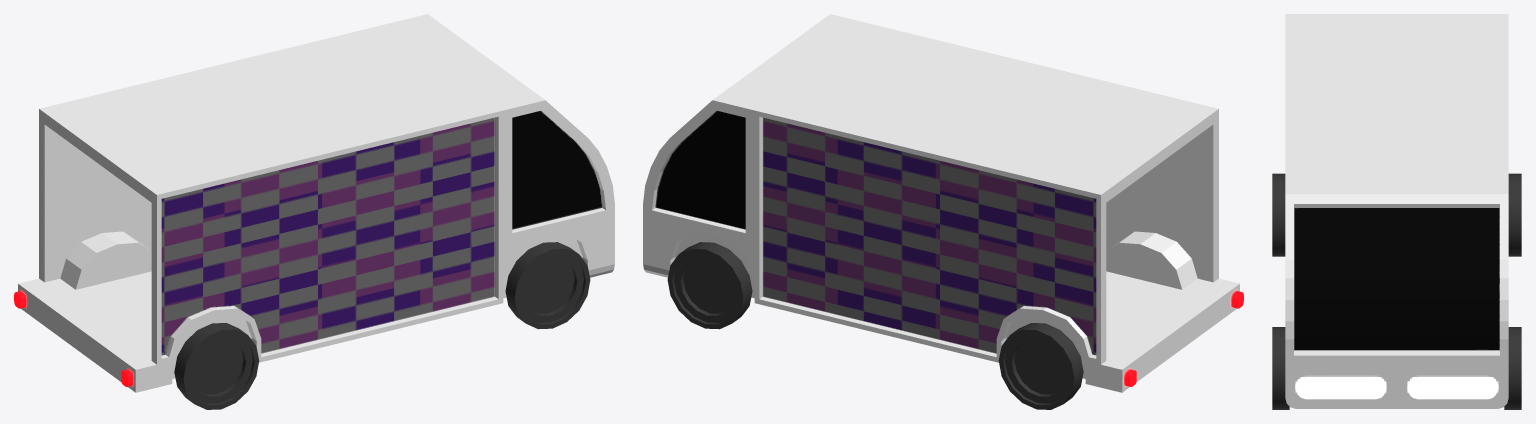
The model's file is van_MESH.fbx.
3 views of the same model, side by side, from view 1: azimuth 30°, elevation 25°; view 2: azimuth 150°, elevation 25°; view 3: azimuth 270°, elevation 25° (orthographic). The views are drawn at different scales.
Parts seen in each view (by area): view 1: van_MESH, backwheels_MESH, frontwheels_MESH; view 2: van_MESH, backwheels_MESH, frontwheels_MESH; view 3: van_MESH, frontwheels_MESH, backwheels_MESH.
Boxes of the visible parts, bbox=[...] form: van_MESH: bbox=[14, 14, 614, 392]; backwheels_MESH: bbox=[174, 323, 259, 409]; frontwheels_MESH: bbox=[505, 242, 590, 329]; van_MESH: bbox=[643, 14, 1243, 392]; backwheels_MESH: bbox=[998, 323, 1083, 409]; frontwheels_MESH: bbox=[667, 242, 752, 329]; van_MESH: bbox=[1285, 14, 1508, 408]; frontwheels_MESH: bbox=[1272, 327, 1521, 409]; backwheels_MESH: bbox=[1272, 173, 1521, 256].
Bounding box in the file's own units: 965 × 448 × 420.
